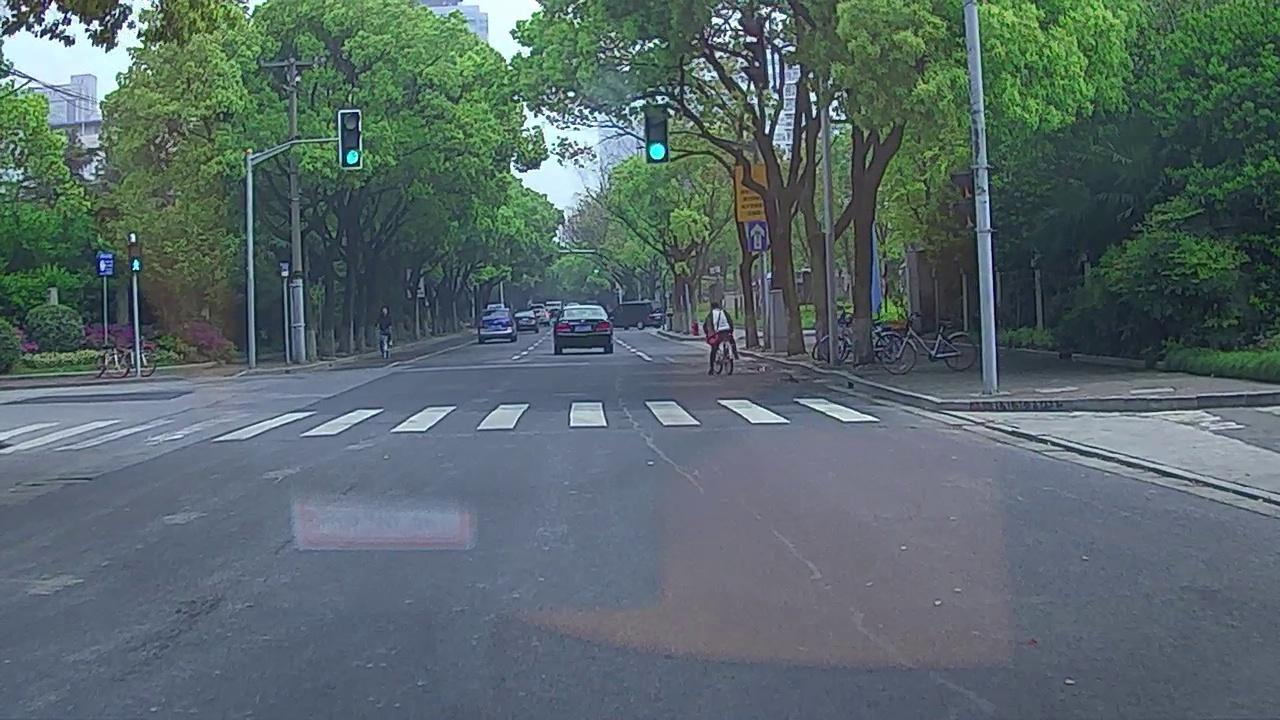traffic_light: (644, 105, 668, 162), (342, 112, 361, 166)
